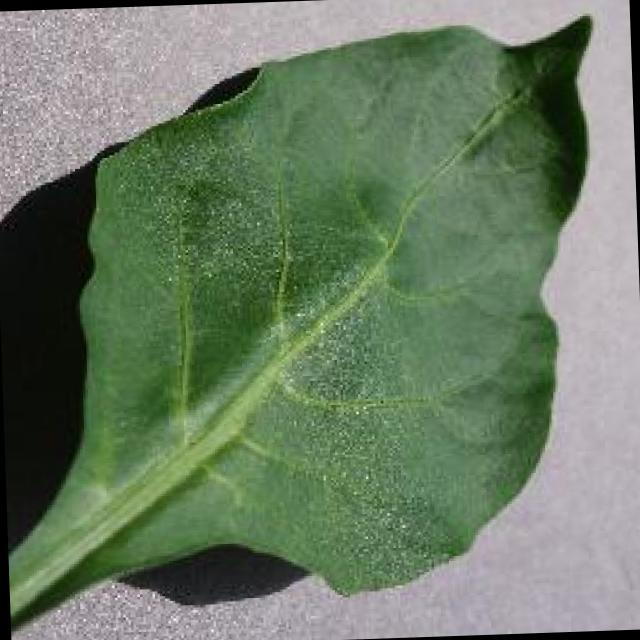Chilli_Healthy: (0, 7, 613, 640)
